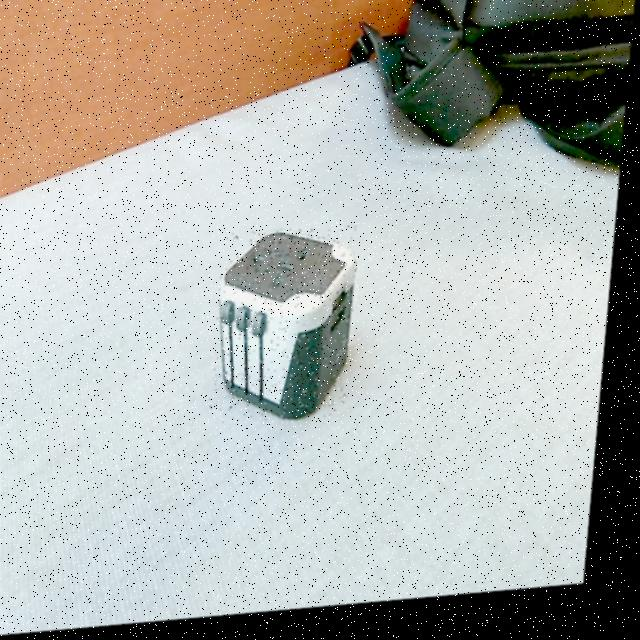adapter: (216, 229, 368, 432)
